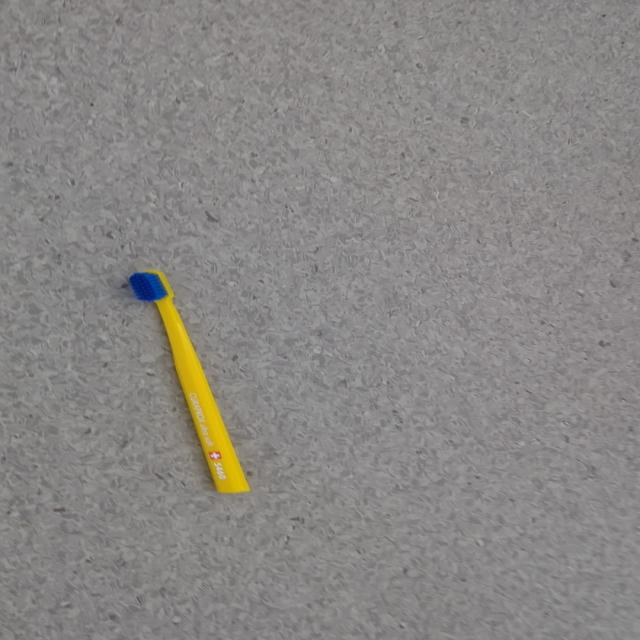toothbrush: (126, 269, 251, 494)
